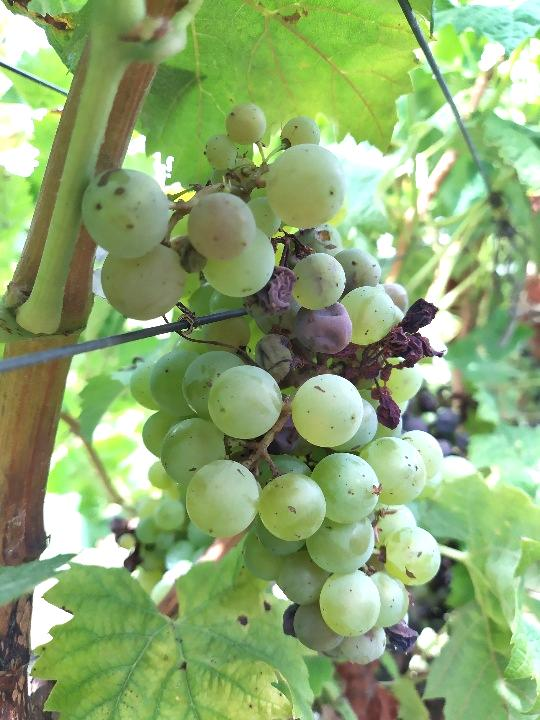grape: (79, 100, 448, 668)
